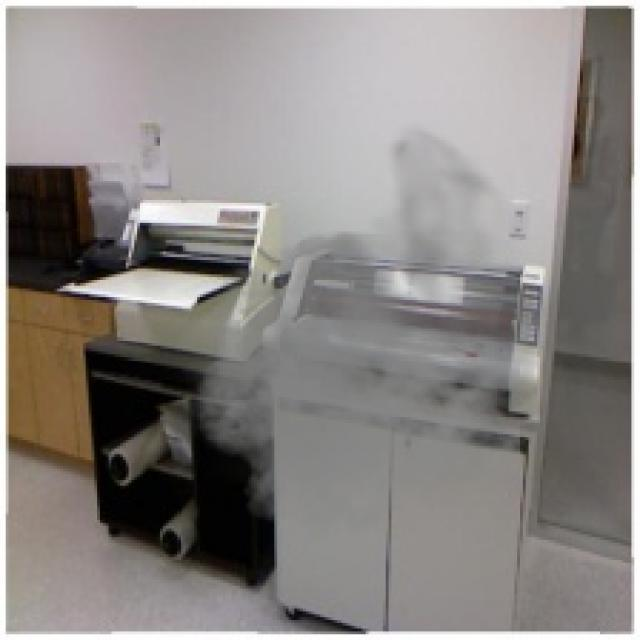Smoke: (168, 120, 568, 546)
